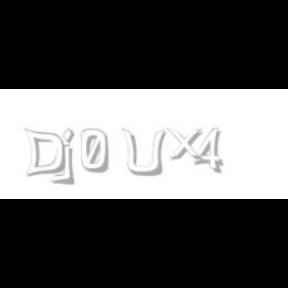0: (80, 128, 112, 174)
4: (192, 128, 224, 174)
D: (23, 128, 66, 178)
U: (120, 128, 166, 178)
j: (60, 128, 88, 186)
x: (166, 128, 208, 162)
